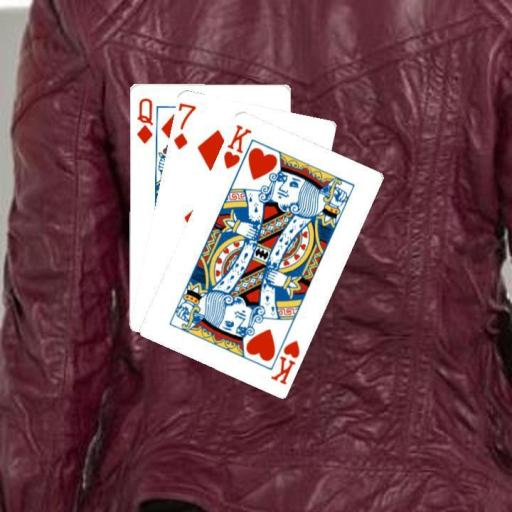card-corner: (268, 336, 302, 386), (220, 121, 253, 170), (170, 100, 198, 150), (133, 95, 154, 145)
